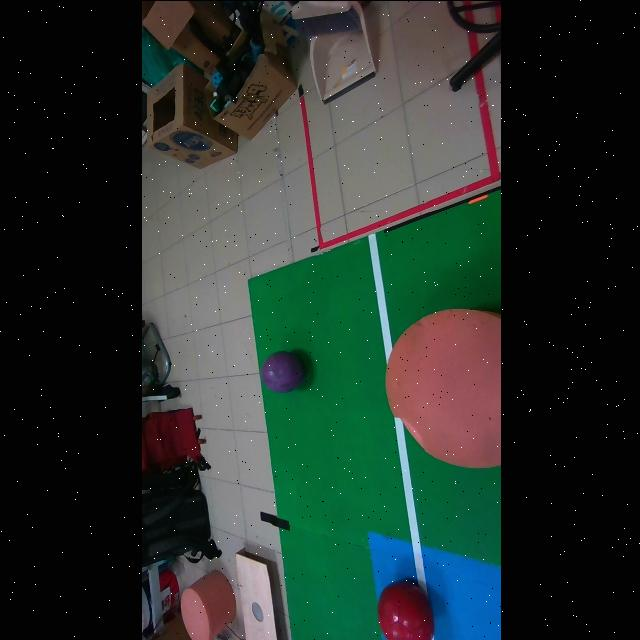P: (259, 351, 301, 393)
R: (376, 582, 432, 640)
